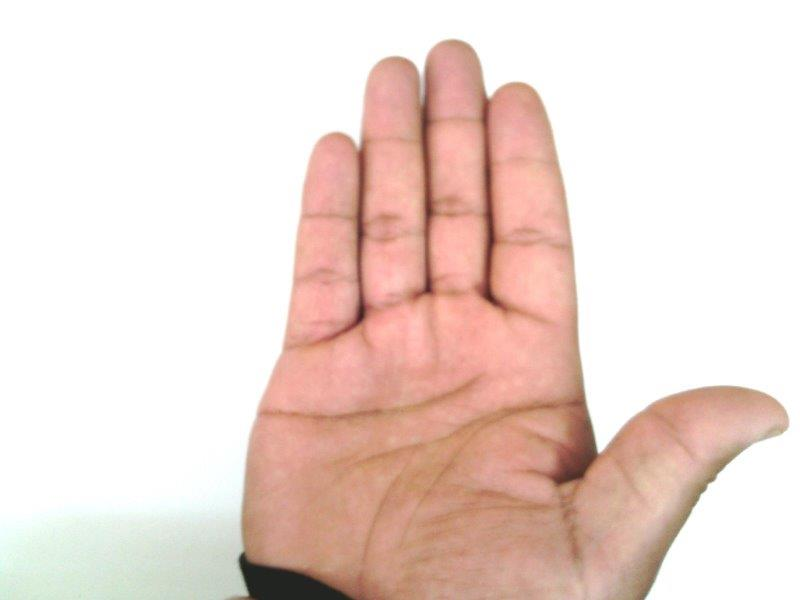hand: (243, 39, 789, 564)
